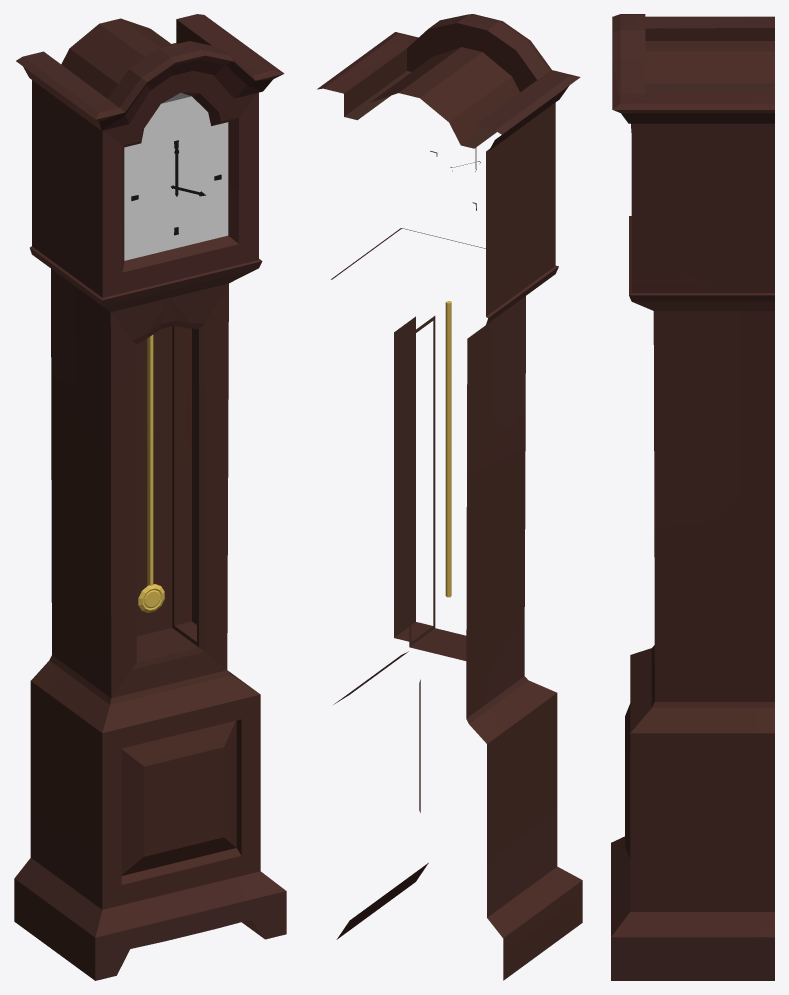
File: 09YKIkFZnA.glb
The picture shows the model from 3 angles, left to right: view 1: azimuth 30°, elevation 25°; view 2: azimuth 150°, elevation 25°; view 3: azimuth 270°, elevation 25°; orthographic projection. The views are drawn at different scales.
Visible parts, largest first — view 1: Grandfathers_clock; view 2: Grandfathers_clock; view 3: Grandfathers_clock.
Part boxes in pixels (x1,y1,x2,y2): Grandfathers_clock: (14, 14, 286, 980); Grandfathers_clock: (317, 14, 582, 980); Grandfathers_clock: (611, 14, 774, 980).
Bounding box in the file's own units: 0.3031 × 1.36 × 0.2223.
Materials: 1 (1 with a texture image).
